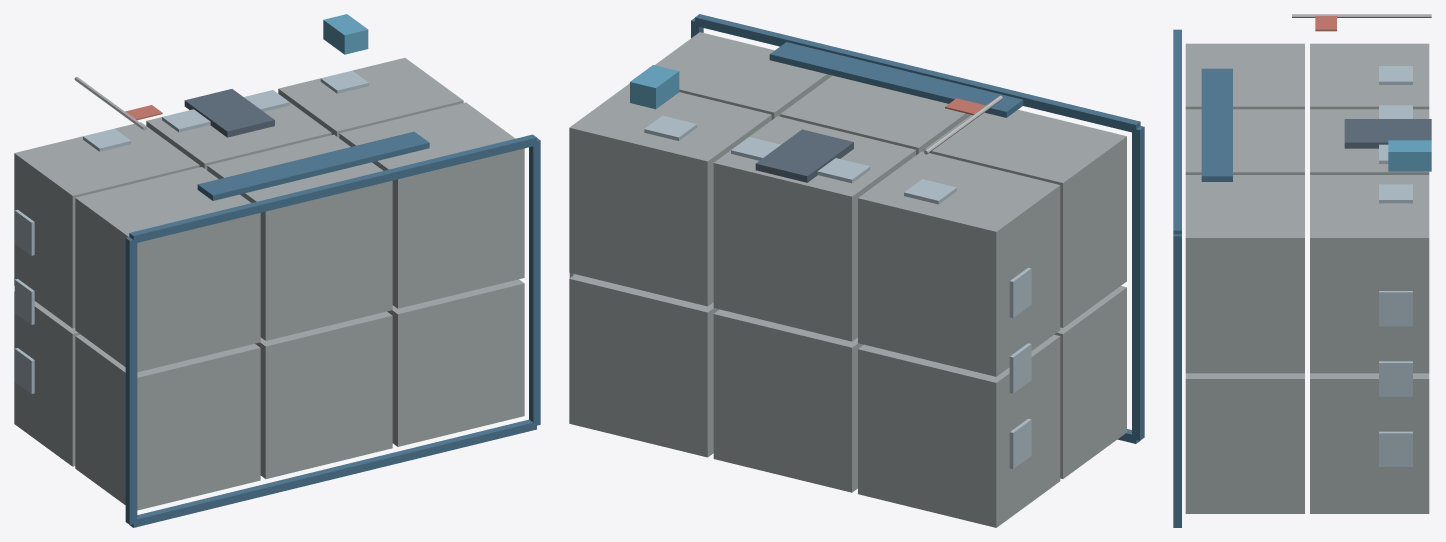
File: building-post-office.glb
3 views of the same model, side by side, from view 1: azimuth 30°, elevation 25°; view 2: azimuth 150°, elevation 25°; view 3: azimuth 270°, elevation 25° (orthographic). The views are drawn at different scales.
Visible parts, largest first — view 1: world; view 2: world; view 3: world.
Part boxes in pixels (bbox=[...]): world: bbox=[14, 14, 540, 527]; world: bbox=[569, 14, 1144, 527]; world: bbox=[1173, 14, 1431, 527].
Bounding box in the file's own units: 15.56 × 12.35 × 8.32.
